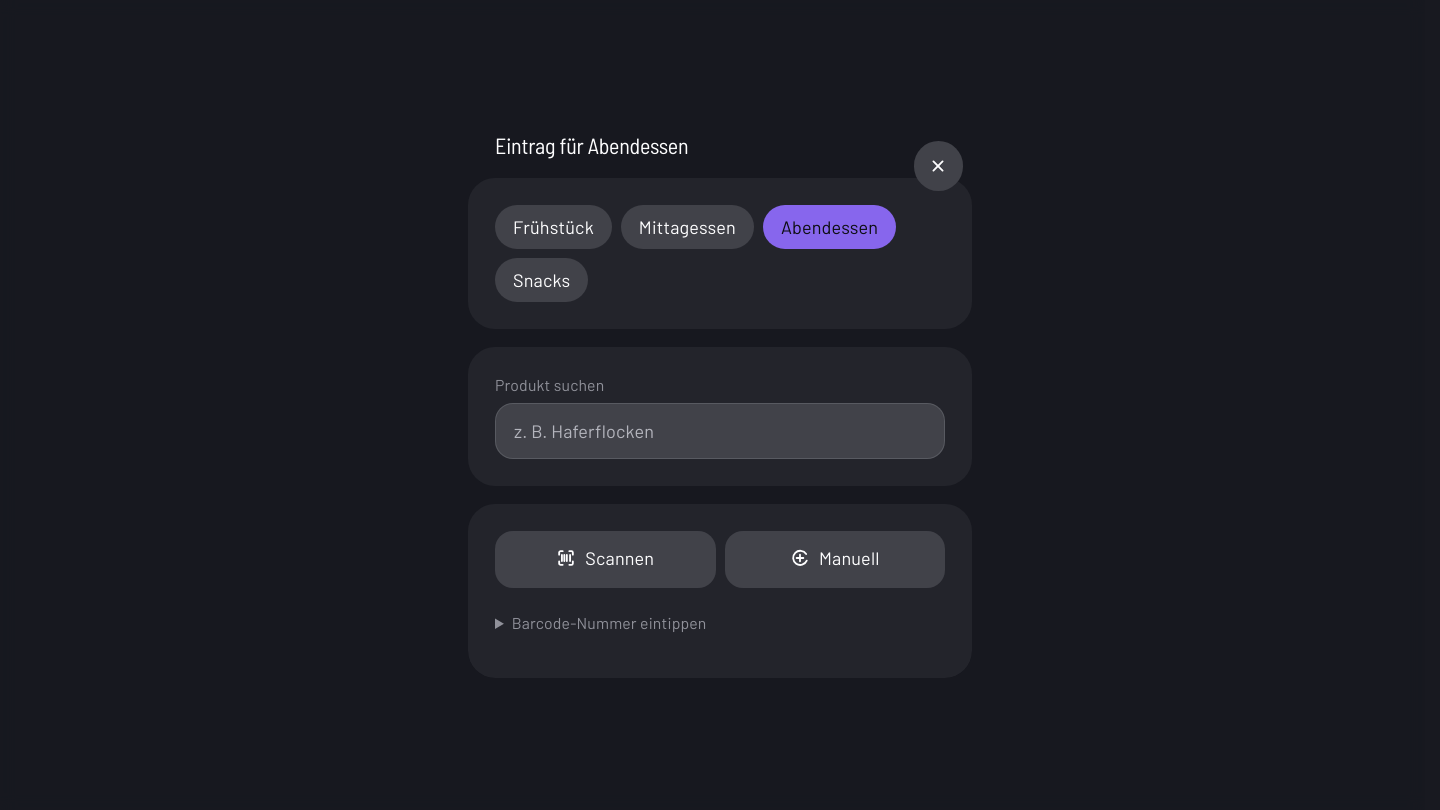
it: QuickAddDialog › nennt die gewählte Mahlzeit im Titel und folgt dem Wechsel
The width and height of the screenshot is (1440, 810).
Click the button "Snacks": point(542, 280) [495,258,588,302]
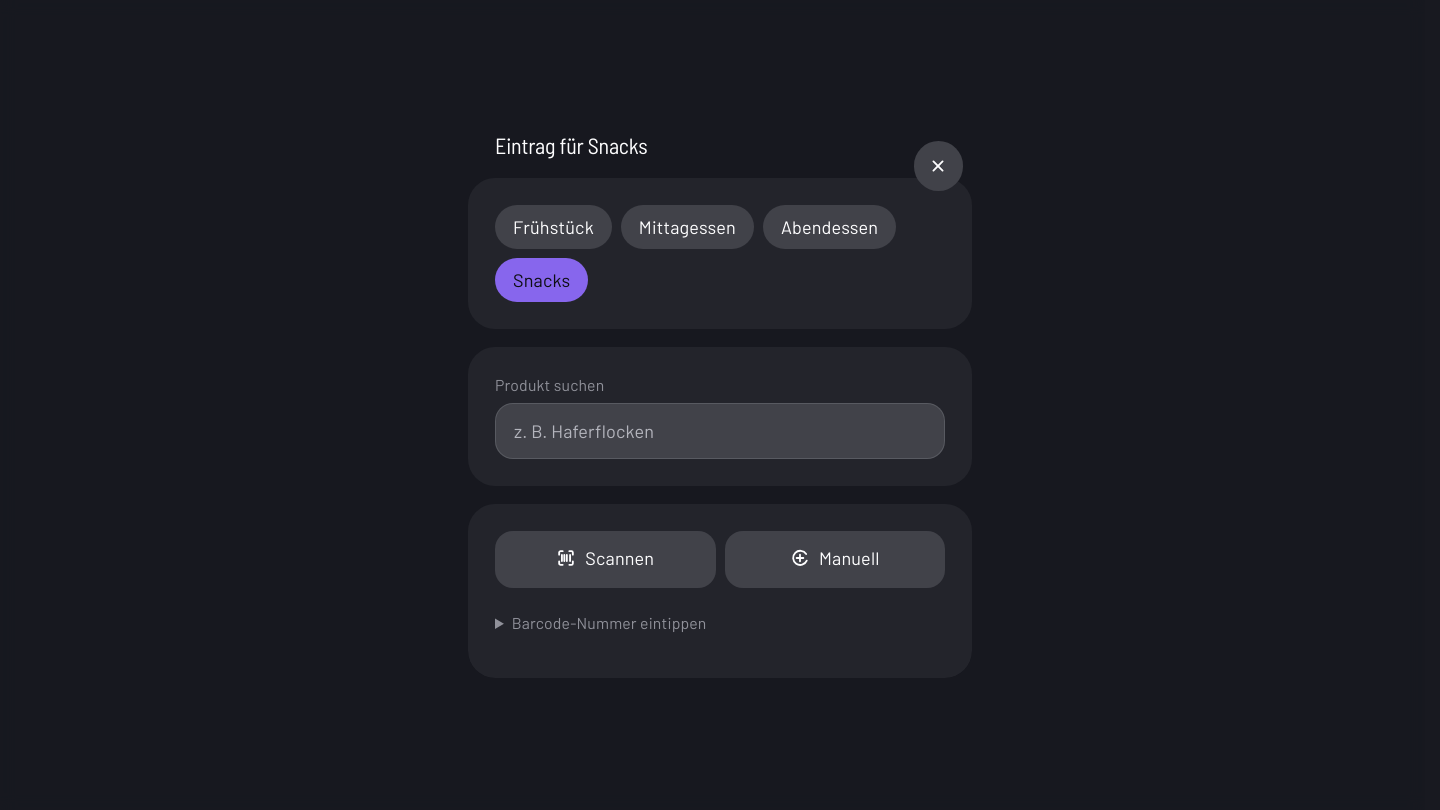
Expected: the heading "Eintrag für Snacks" is shown, [495,132,648,158]
